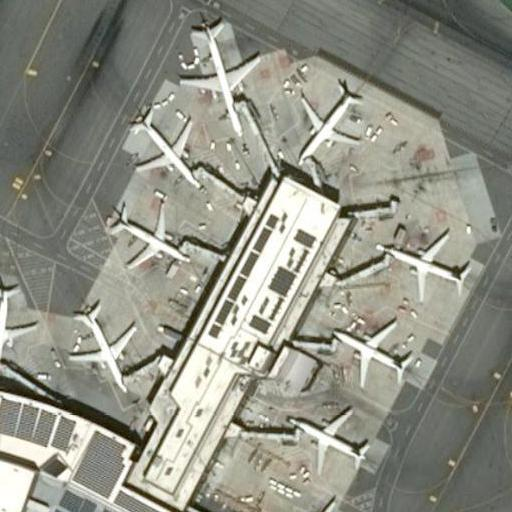Aircraft: (181, 22, 259, 140), (62, 297, 137, 395), (128, 107, 201, 201), (321, 314, 412, 386), (380, 225, 470, 293), (289, 76, 365, 155), (287, 406, 376, 472), (110, 200, 186, 269), (0, 279, 34, 369), (278, 496, 356, 512)
